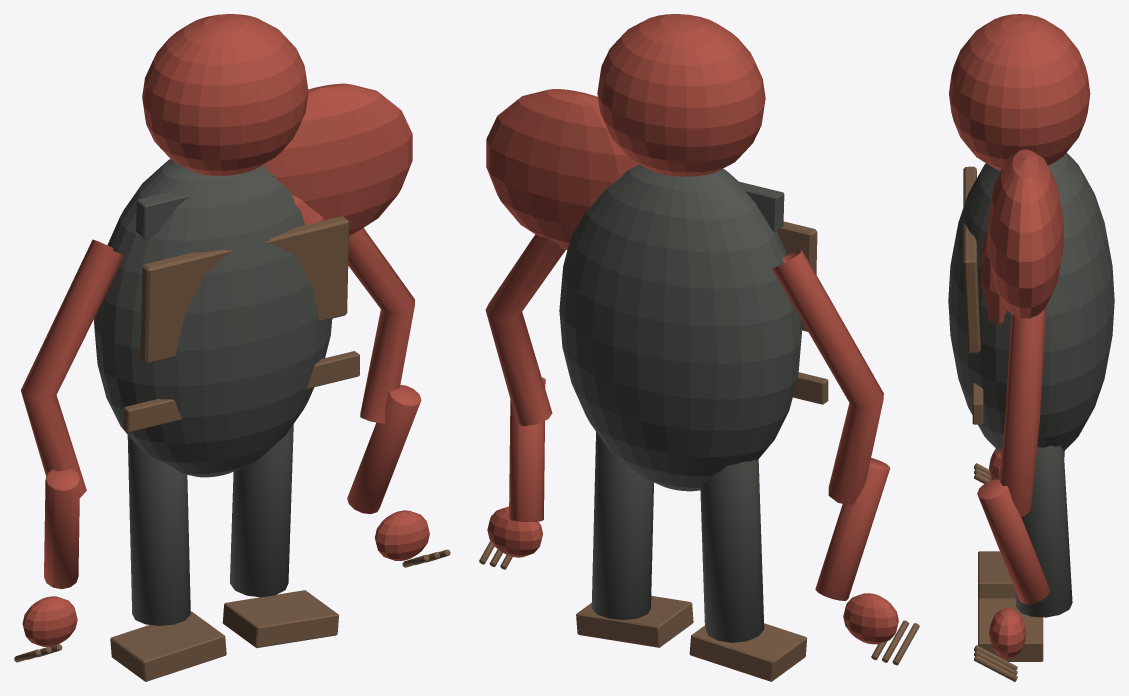
The model's file is dz_enemy_brute_male_B.glb.
3 views of the same model, side by side, from view 1: azimuth 30°, elevation 25°; view 2: azimuth 150°, elevation 25°; view 3: azimuth 270°, elevation 25° (orthographic). The views are drawn at different scales.
Visible parts, largest first — view 1: dz_torso_core, dz_head_forward, dz_heavy_shoulder_mutation, dz_rusted_plate_chest, dz_limb_leg_L, dz_limb_arm_L, dz_limb_leg_R, dz_limb_arm_R, dz_foot_drag_L, dz_foot_drag_R, dz_limb_forearm_R, dz_limb_forearm_L (+4 smaller); view 2: dz_torso_core, dz_head_forward, dz_heavy_shoulder_mutation, dz_limb_leg_L, dz_limb_arm_L, dz_limb_leg_R, dz_limb_arm_R, dz_limb_forearm_L, dz_foot_drag_L, dz_limb_forearm_R, dz_foot_drag_R, dz_hand_claw_L (+4 smaller); view 3: dz_torso_core, dz_head_forward, dz_heavy_shoulder_mutation, dz_limb_arm_R, dz_limb_leg_R, dz_limb_forearm_R, dz_rusted_plate_chest, dz_foot_drag_R, dz_foot_drag_L, dz_hand_claw_R, dz_chest_infected_growth, dz_chain_belt_brute (+2 smaller).
Boxes of the visible parts, bbox=[...] form: dz_torso_core: bbox=[94, 159, 332, 477]; dz_head_forward: bbox=[142, 14, 308, 175]; dz_heavy_shoulder_mutation: bbox=[263, 83, 412, 235]; dz_rusted_plate_chest: bbox=[140, 216, 349, 363]; dz_limb_leg_L: bbox=[127, 435, 190, 625]; dz_limb_arm_L: bbox=[20, 239, 124, 497]; dz_limb_leg_R: bbox=[230, 424, 293, 597]; dz_limb_arm_R: bbox=[348, 228, 414, 423]; dz_foot_drag_L: bbox=[110, 611, 226, 681]; dz_foot_drag_R: bbox=[222, 590, 338, 648]; dz_limb_forearm_R: bbox=[347, 385, 421, 513]; dz_limb_forearm_L: bbox=[44, 469, 79, 589]; dz_torso_core: bbox=[559, 164, 801, 491]; dz_head_forward: bbox=[597, 14, 765, 176]; dz_heavy_shoulder_mutation: bbox=[486, 89, 639, 249]; dz_limb_leg_L: bbox=[700, 459, 764, 642]; dz_limb_arm_L: bbox=[771, 249, 883, 504]; dz_limb_leg_R: bbox=[591, 432, 653, 619]; dz_limb_arm_R: bbox=[485, 234, 565, 426]; dz_limb_forearm_L: bbox=[815, 458, 890, 600]; dz_foot_drag_L: bbox=[689, 623, 807, 681]; dz_limb_forearm_R: bbox=[509, 377, 545, 521]; dz_foot_drag_R: bbox=[576, 595, 693, 647]; dz_hand_claw_L: bbox=[843, 593, 898, 644]; dz_torso_core: bbox=[948, 152, 1114, 453]; dz_head_forward: bbox=[949, 14, 1090, 170]; dz_heavy_shoulder_mutation: bbox=[987, 149, 1063, 318]; dz_limb_arm_R: bbox=[999, 306, 1046, 516]; dz_limb_leg_R: bbox=[1015, 445, 1072, 617]; dz_limb_forearm_R: bbox=[977, 479, 1049, 604]; dz_rusted_plate_chest: bbox=[963, 166, 980, 353]; dz_foot_drag_R: bbox=[978, 598, 1043, 661]; dz_foot_drag_L: bbox=[978, 551, 1015, 598]; dz_hand_claw_R: bbox=[989, 607, 1026, 658]; dz_chest_infected_growth: bbox=[980, 226, 1006, 326]; dz_chain_belt_brute: bbox=[972, 382, 983, 424].
Size of what is drawn, in the model's own units: 1.55 by 2.22 by 0.5597.
